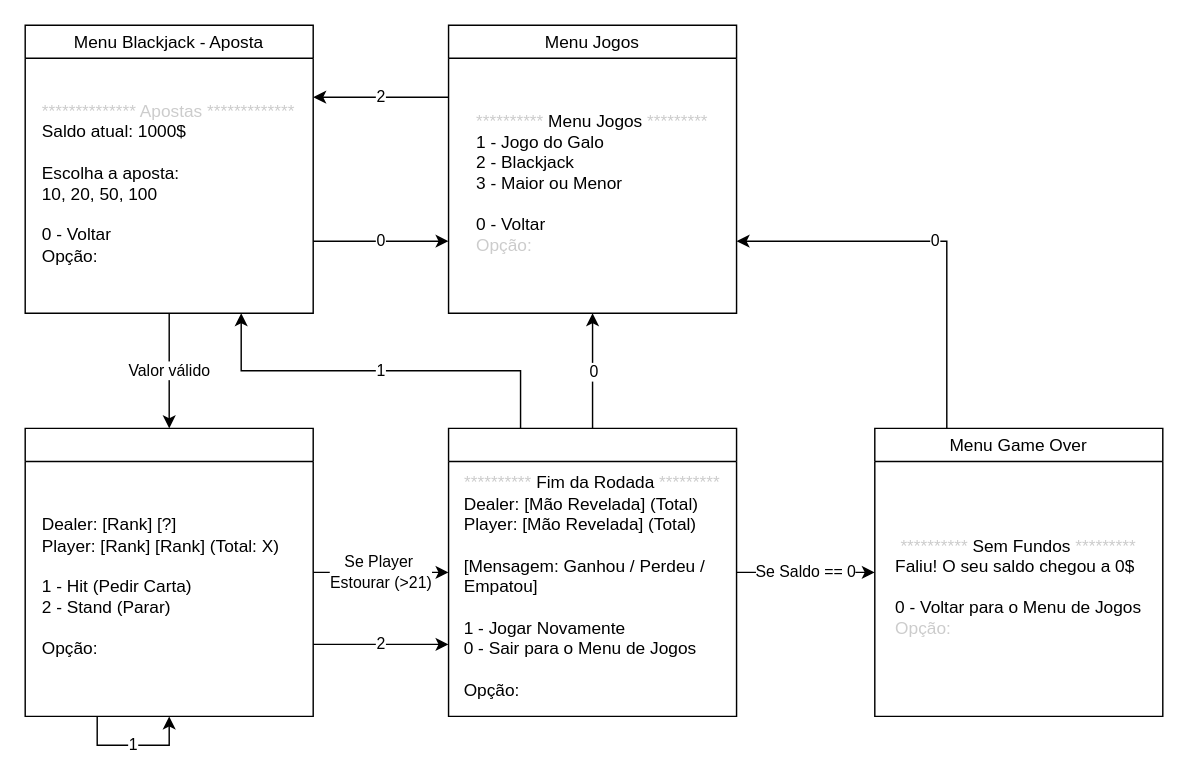
This 1188x782 diagram has some shape labels left out. The box of each missing label's shape, as (x1, y1, x2, y2) in pixels:
Menu Jogo Ativo: (24, 427, 313, 716)
Menu Resultado: (447, 427, 737, 716)
